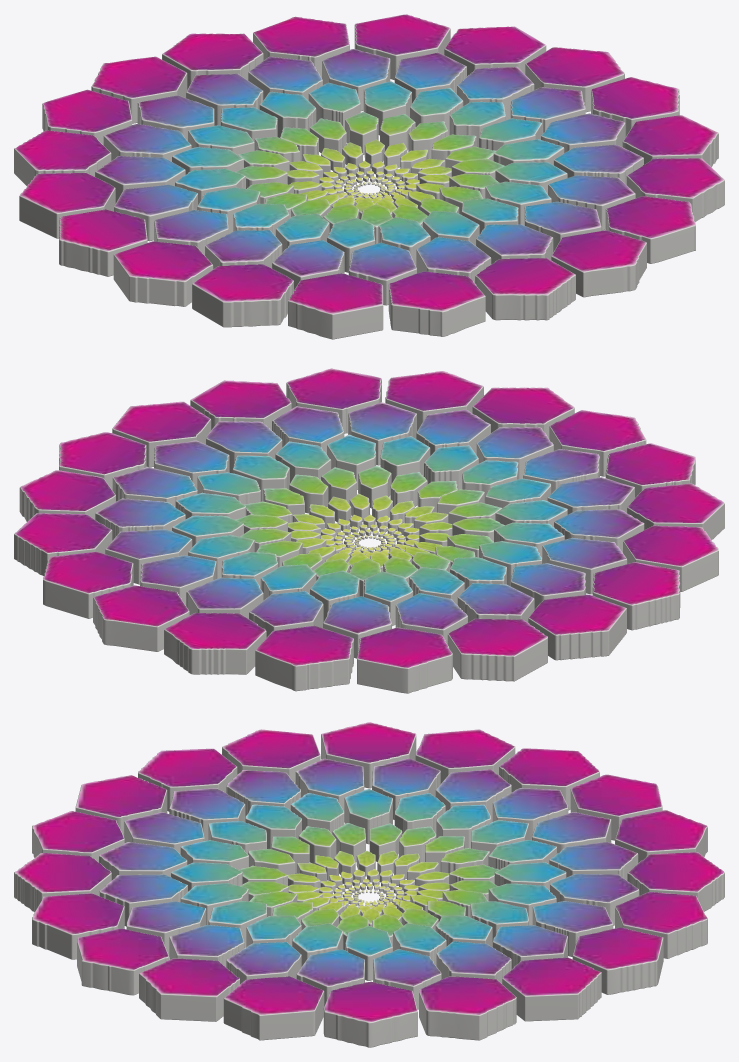
The model's file is purple-original.glb.
The picture shows the model from 3 angles, top to bottom: view 1: azimuth 30°, elevation 25°; view 2: azimuth 150°, elevation 25°; view 3: azimuth 270°, elevation 25°; orthographic projection.
Visible parts, largest first — view 1: purple-original | cell-013, purple-original | cell-011, purple-original | cell-012, purple-original | cell-010, purple-original | cell-014, purple-original | cell-009, purple-original | cell-015, purple-original | cell-008, purple-original | cell-016, purple-original | cell-007, purple-original | cell-017, purple-original | cell-002 (+65 smaller); view 2: purple-original | cell-019, purple-original | cell-017, purple-original | cell-018, purple-original | cell-020, purple-original | cell-016, purple-original | cell-001, purple-original | cell-015, purple-original | cell-002, purple-original | cell-014, purple-original | cell-003, purple-original | cell-013, purple-original | cell-004 (+65 smaller); view 3: purple-original | cell-006, purple-original | cell-004, purple-original | cell-005, purple-original | cell-003, purple-original | cell-007, purple-original | cell-002, purple-original | cell-008, purple-original | cell-009, purple-original | cell-001, purple-original | cell-010, purple-original | cell-020, purple-original | cell-015 (+65 smaller).
Part boxes in pixels (<box>): purple-original | cell-013: <box>192,264,293,327</box>; purple-original | cell-011: <box>388,271,485,336</box>; purple-original | cell-012: <box>288,273,383,339</box>; purple-original | cell-010: <box>475,258,575,320</box>; purple-original | cell-014: <box>113,241,213,306</box>; purple-original | cell-009: <box>551,230,646,297</box>; purple-original | cell-015: <box>59,209,147,276</box>; purple-original | cell-008: <box>605,196,695,263</box>; purple-original | cell-016: <box>19,172,115,238</box>; purple-original | cell-007: <box>626,158,724,221</box>; purple-original | cell-017: <box>14,130,111,185</box>; purple-original | cell-002: <box>354,14,450,80</box>; purple-original | cell-019: <box>255,625,353,691</box>; purple-original | cell-017: <box>447,618,547,681</box>; purple-original | cell-018: <box>357,627,452,693</box>; purple-original | cell-020: <box>164,612,266,674</box>; purple-original | cell-016: <box>528,594,626,660</box>; purple-original | cell-001: <box>93,585,189,651</box>; purple-original | cell-015: <box>592,562,680,630</box>; purple-original | cell-002: <box>43,551,133,618</box>; purple-original | cell-014: <box>623,525,718,591</box>; purple-original | cell-003: <box>14,513,112,576</box>; purple-original | cell-013: <box>627,483,724,540</box>; purple-original | cell-004: <box>19,470,115,521</box>; purple-original | cell-006: <box>223,976,324,1040</box>; purple-original | cell-004: <box>419,976,516,1040</box>; purple-original | cell-005: <box>323,981,417,1047</box>; purple-original | cell-003: <box>502,957,601,1021</box>; purple-original | cell-007: <box>139,958,239,1021</box>; purple-original | cell-002: <box>572,927,663,994</box>; purple-original | cell-008: <box>77,928,168,995</box>; purple-original | cell-009: <box>32,893,124,959</box>; purple-original | cell-001: <box>615,892,707,958</box>; purple-original | cell-010: <box>14,853,111,912</box>; purple-original | cell-020: <box>627,852,724,911</box>; purple-original | cell-015: <box>321,722,416,788</box>.
Size of the model in its own units: 3.8 by 0.15 by 3.79.
Materials: 2 (1 with a texture image).
